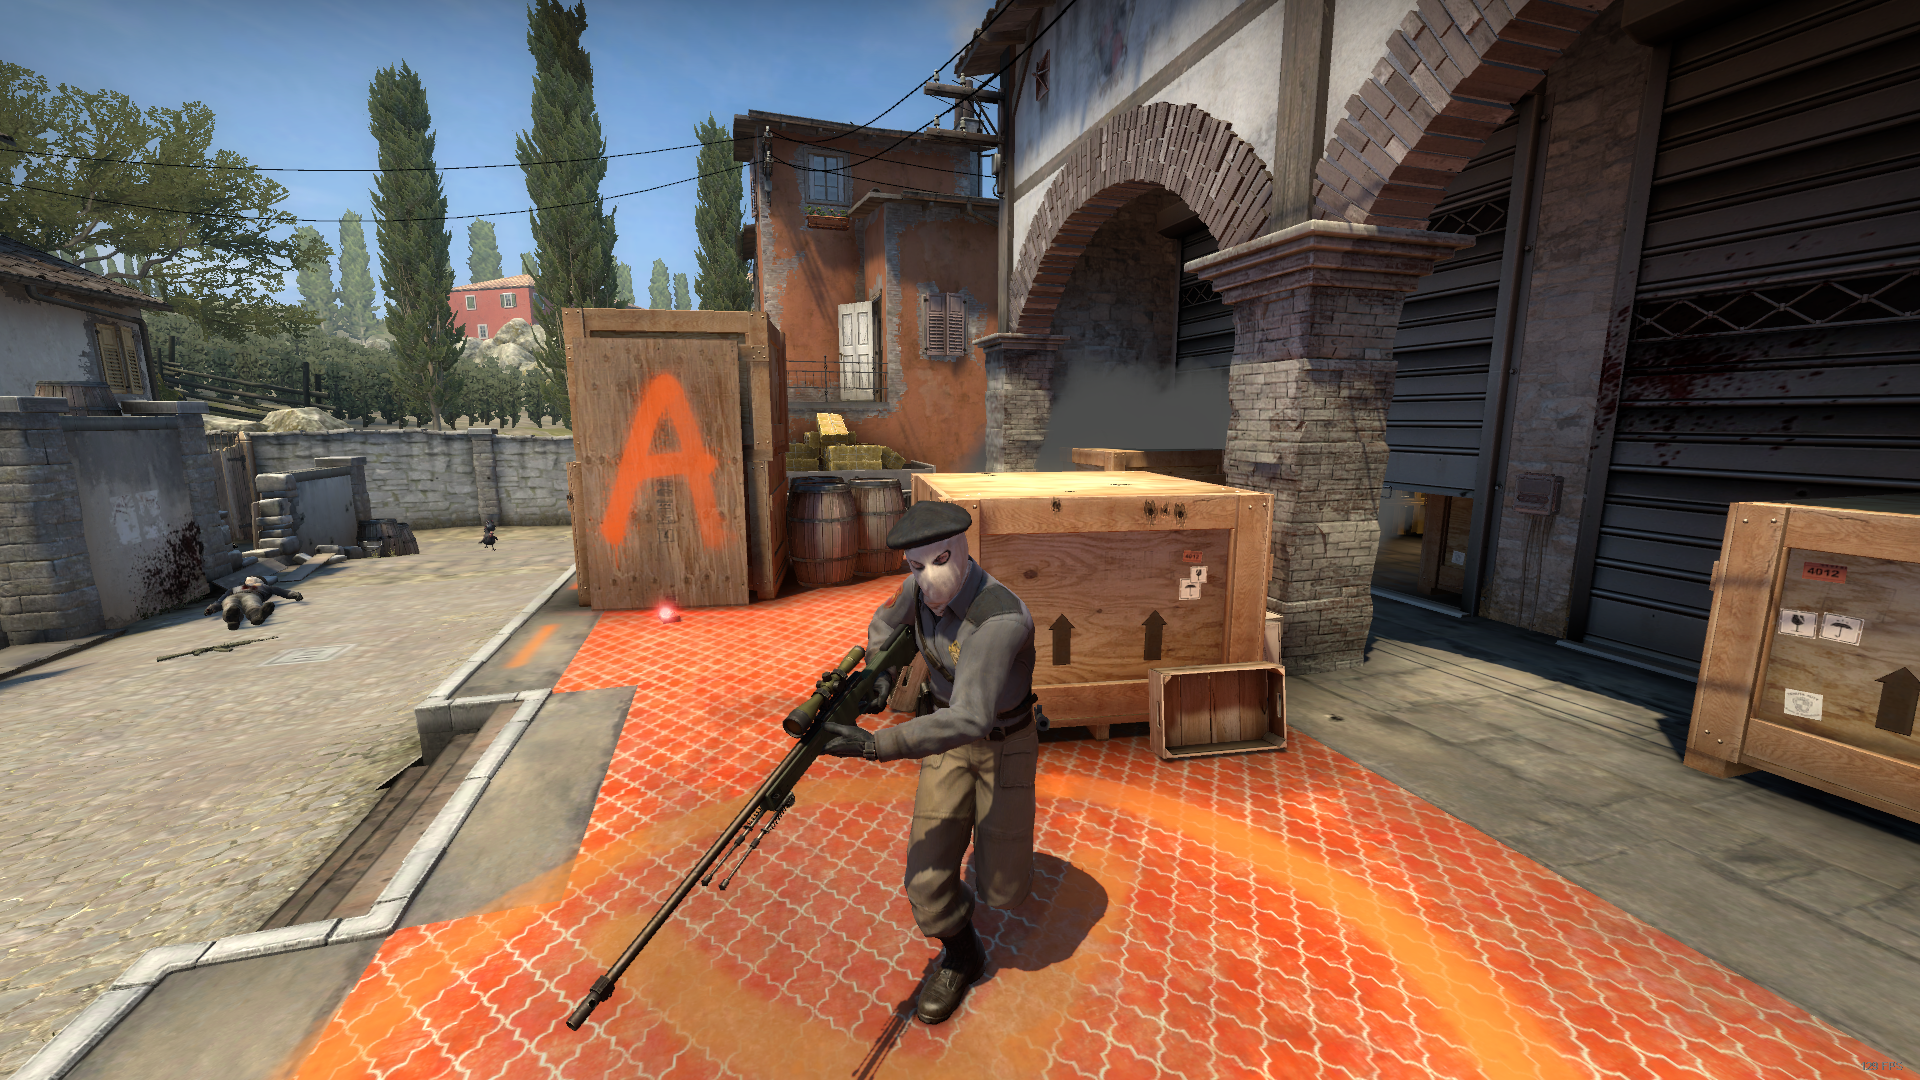t: (833, 497, 1067, 1033)
